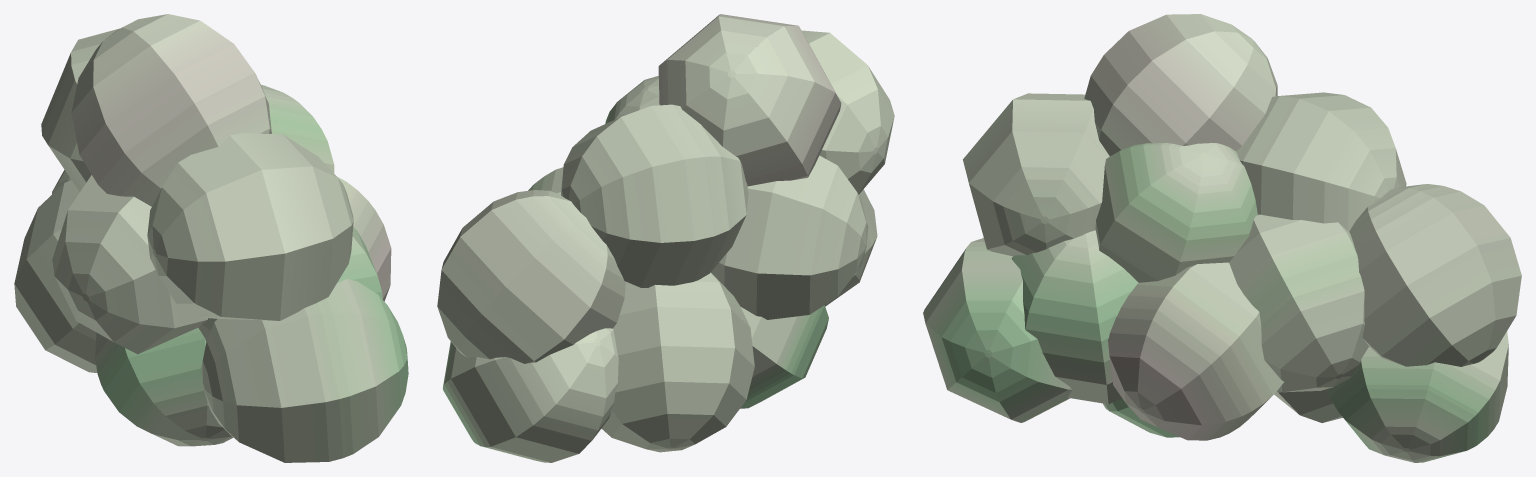
File: AssetsheidiCloud 2.fbx
3 renders of one model, left to right at view 1: azimuth 30°, elevation 25°; view 2: azimuth 150°, elevation 25°; view 3: azimuth 270°, elevation 25°, orthographic. The views are drawn at different scales.
Visible parts, largest first — view 1: Cloud; view 2: Cloud; view 3: Cloud.
Boxes of the visible parts, x1=… form: Cloud: x1=14, y1=14, x2=408, y2=462; Cloud: x1=437, y1=14, x2=894, y2=462; Cloud: x1=923, y1=14, x2=1521, y2=462.
Bounding box in the file's own units: 0.4218 × 0.4999 × 0.6951.
